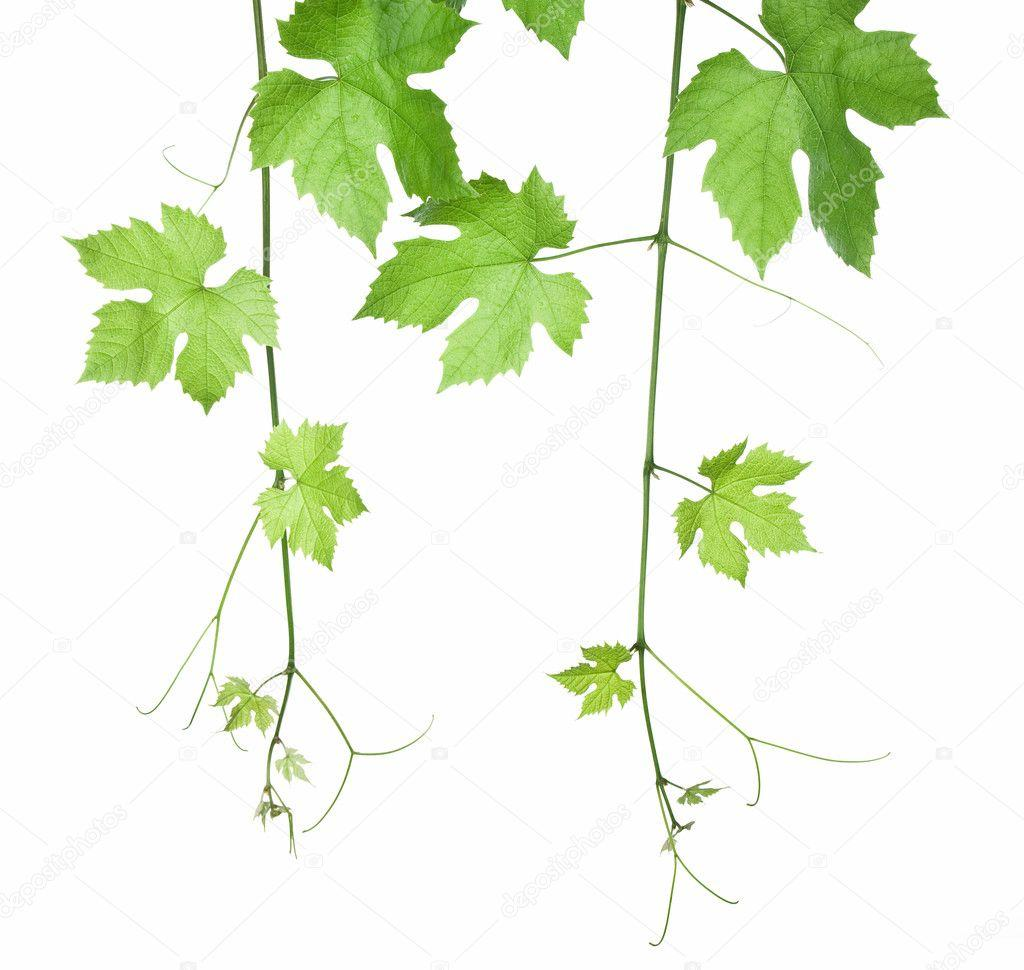grape leaf black rot: (661, 1, 944, 296), (342, 159, 599, 416), (239, 6, 492, 251), (46, 205, 286, 436), (658, 434, 825, 597), (241, 415, 371, 564)
